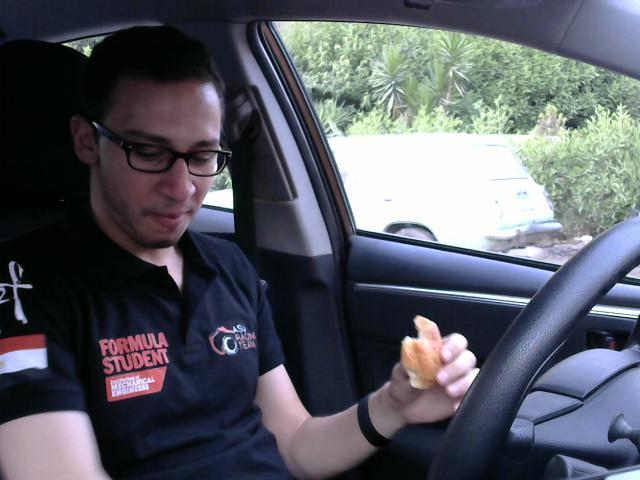Eating: (392, 304, 464, 399)
